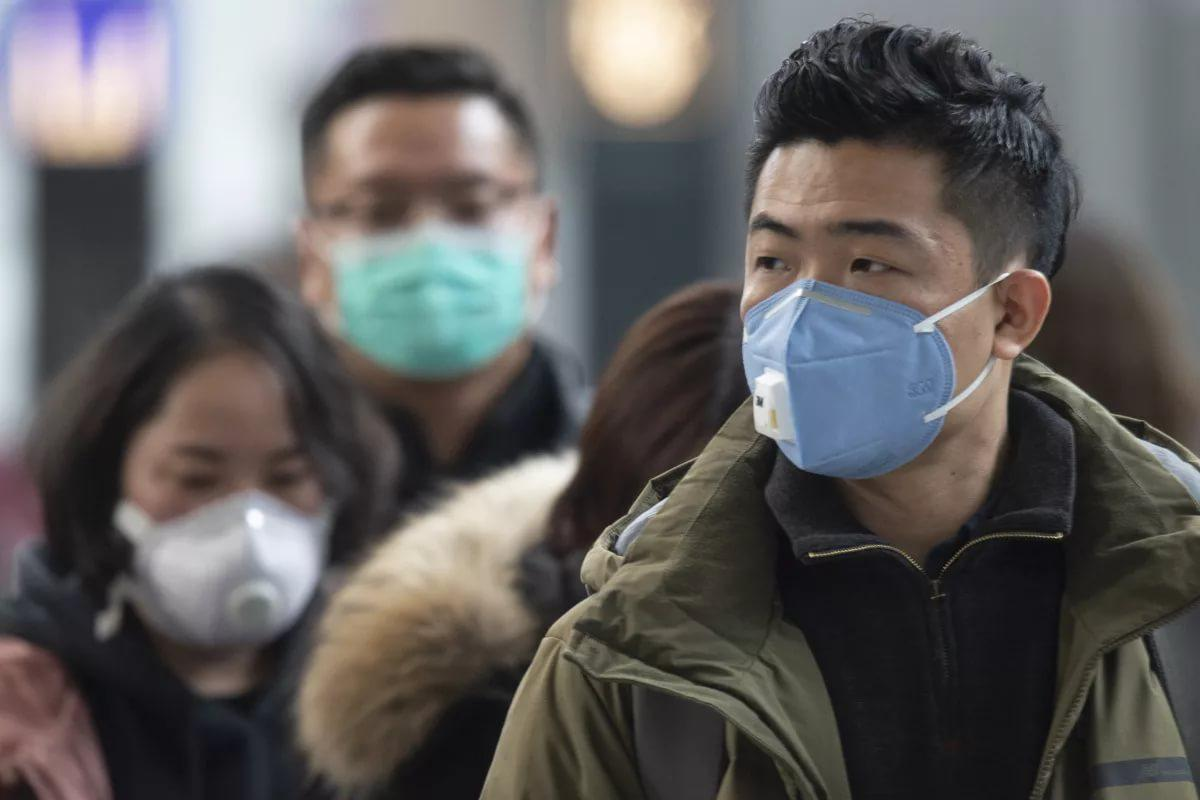mask: (740, 141, 986, 481), (111, 329, 357, 669), (305, 104, 542, 378)
